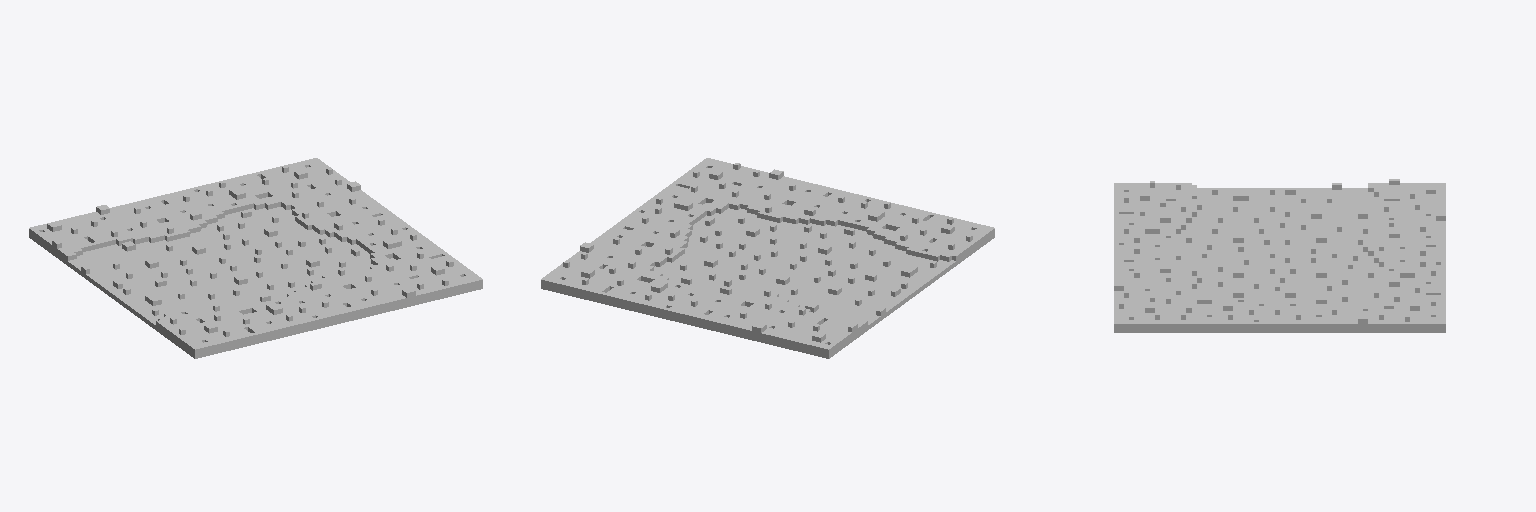
The model's file is EarthPath_3.obj.
3 views of the same model, side by side, from view 1: azimuth 30°, elevation 25°; view 2: azimuth 150°, elevation 25°; view 3: azimuth 270°, elevation 25° (orthographic).
Visible parts, largest first — view 1: EarthPath_2; view 2: EarthPath_2; view 3: EarthPath_2.
Boxes of the visible parts, x1,y1,x2,y2 form: EarthPath_2: [29, 158, 482, 358]; EarthPath_2: [541, 158, 994, 358]; EarthPath_2: [1114, 179, 1445, 332].
Bounding box in the file's own units: 1 × 0.0469 × 1.